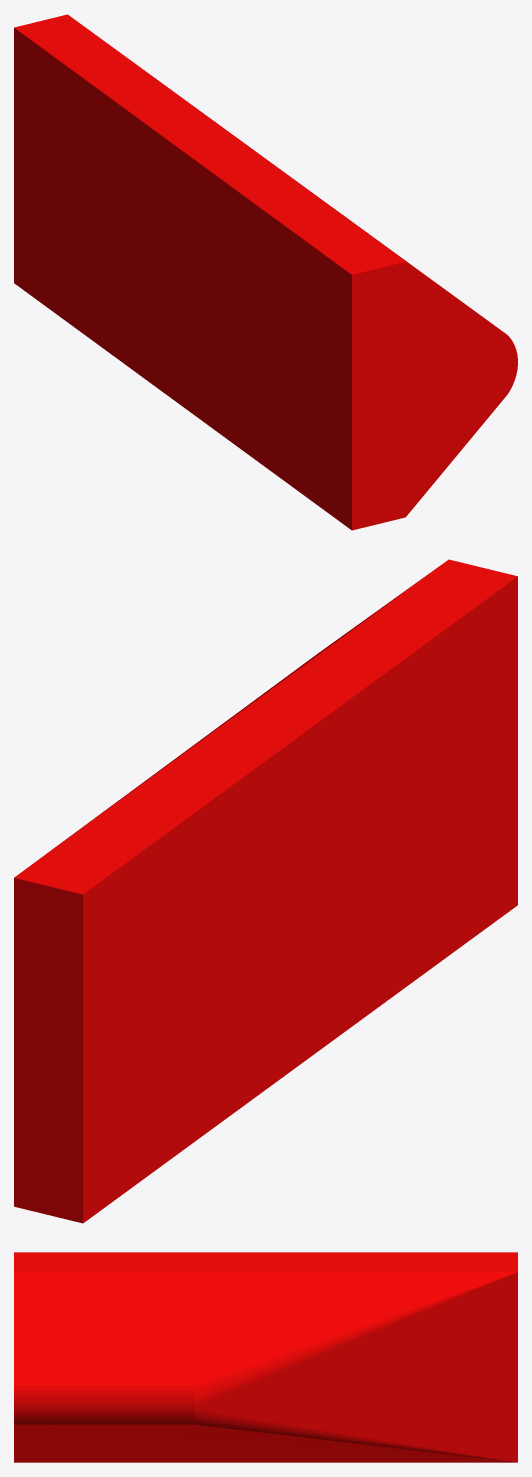
The model's file is col_base_link.glb.
3 renders of one model, top to bottom at view 1: azimuth 30°, elevation 25°; view 2: azimuth 150°, elevation 25°; view 3: azimuth 270°, elevation 25°, orthographic. The views are drawn at different scales.
Visible parts, largest first — view 1: col_base_link; view 2: col_base_link; view 3: col_base_link.
Part boxes in pixels (left/top/right/bottom): col_base_link: left=14, top=14, right=517, bottom=530; col_base_link: left=14, top=559, right=517, bottom=1223; col_base_link: left=14, top=1252, right=517, bottom=1462.
Bounding box in the file's own units: 0.034 × 0.05 × 0.1198.
